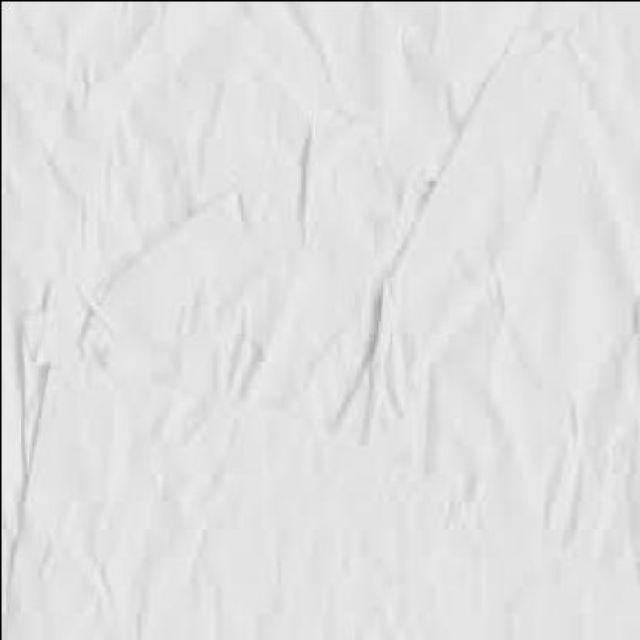PAPER: (1, 1, 640, 638)
